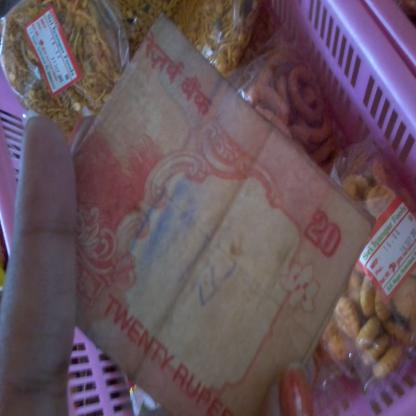Old20Back: (44, 30, 341, 416)
